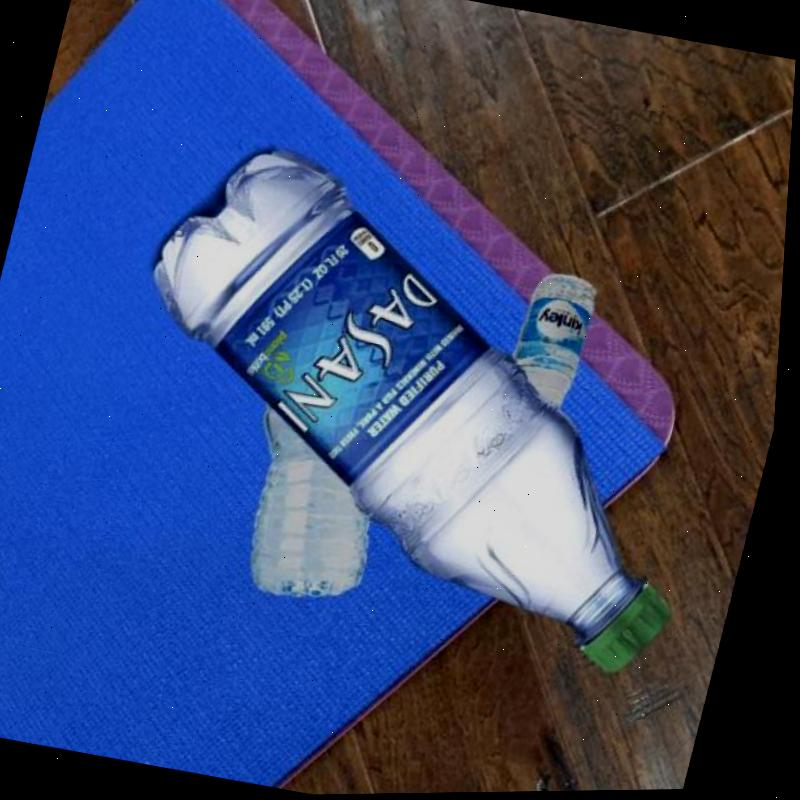botella: (74, 121, 780, 694), (227, 393, 410, 612), (503, 266, 607, 411)
